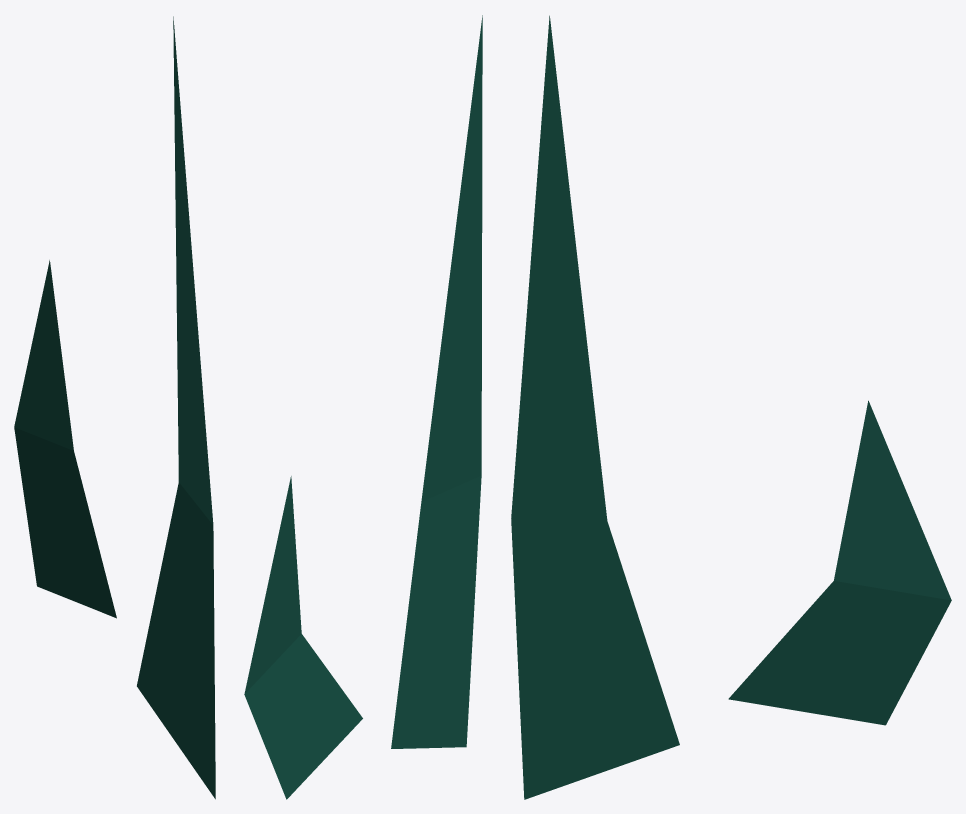
The model's file is grass_4.glb.
The picture shows the model from 3 angles, left to right: view 1: azimuth 30°, elevation 25°; view 2: azimuth 150°, elevation 25°; view 3: azimuth 270°, elevation 25°; orthographic projection. The views are drawn at different scales.
Parts seen in each view (by area): view 1: Grass4; view 2: Grass4; view 3: Grass4.
Part boxes in pixels (left/top/right/bottom): Grass4: left=14, top=16, right=215, bottom=799; Grass4: left=244, top=15, right=482, bottom=799; Grass4: left=511, top=15, right=951, bottom=799.
Bounding box in the file's own units: 0.1215 × 2.02 × 1.05.
1 material, 1 textured.
